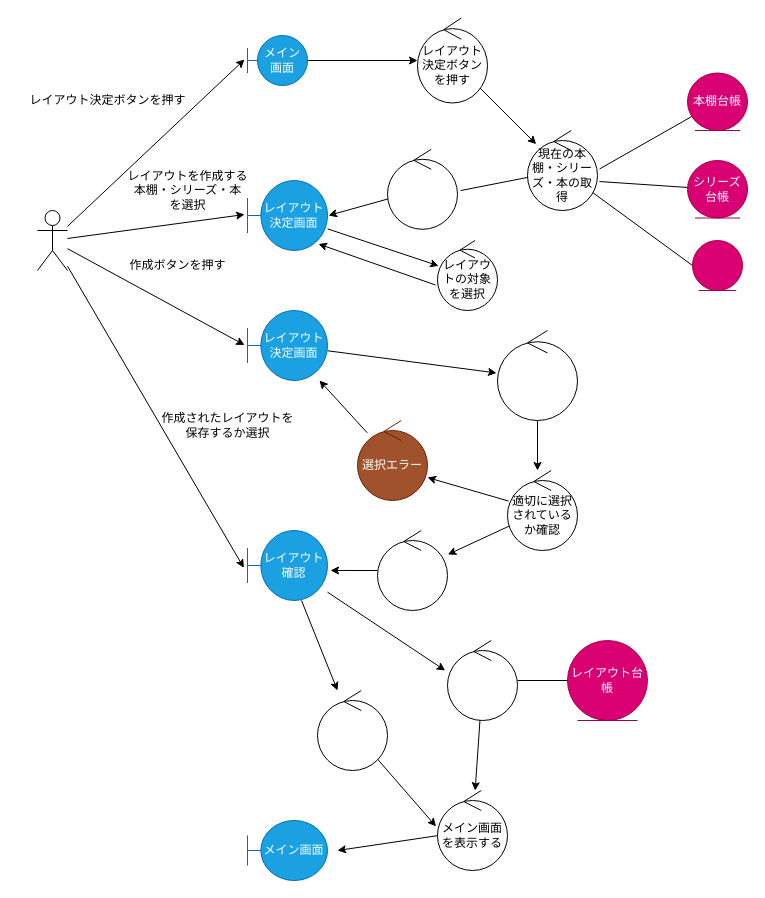
The diagram is 765 pixels wide and 898 high, and some of its shapes have lost their labels. The shapes that lost their labels are listed below. From the top down, each one's centre as x and y in pixels, then its label:
At pixel 422 188: "レイアウト決定画面の表示".
At pixel 52 240: "ユーザー".
At pixel 717 265: "本台帳".
At pixel 537 375: "レイアウトを作成ボタンを押す".
At pixel 412 570: "レイアウトを作成".
At pixel 482 680: "レイアウトを保存する".
At pixel 352 730: "レイアウトを保存しない".
